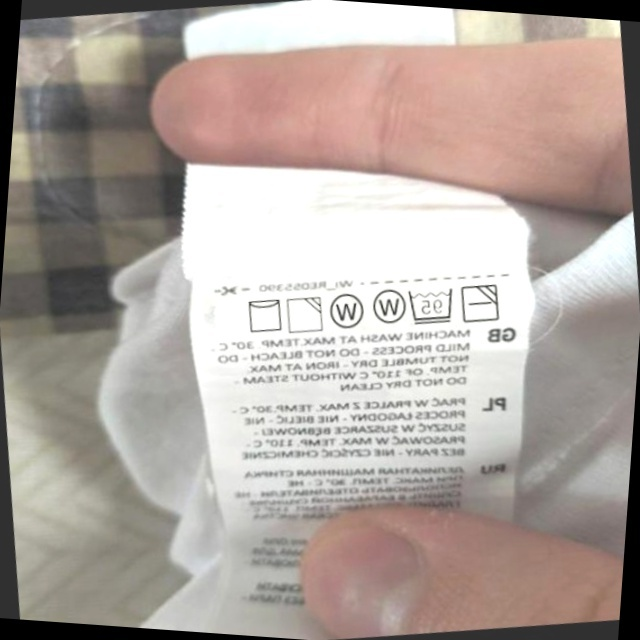95C: (403, 281, 459, 329)
dry_flat_in_shade: (457, 278, 505, 328)
line_dry: (241, 292, 287, 338)
shade_dry: (282, 291, 328, 338)
wet_clean: (324, 288, 369, 335), (366, 282, 409, 329)
